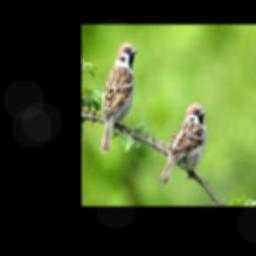Sparrow: (100, 42, 136, 152), (160, 101, 206, 184)
